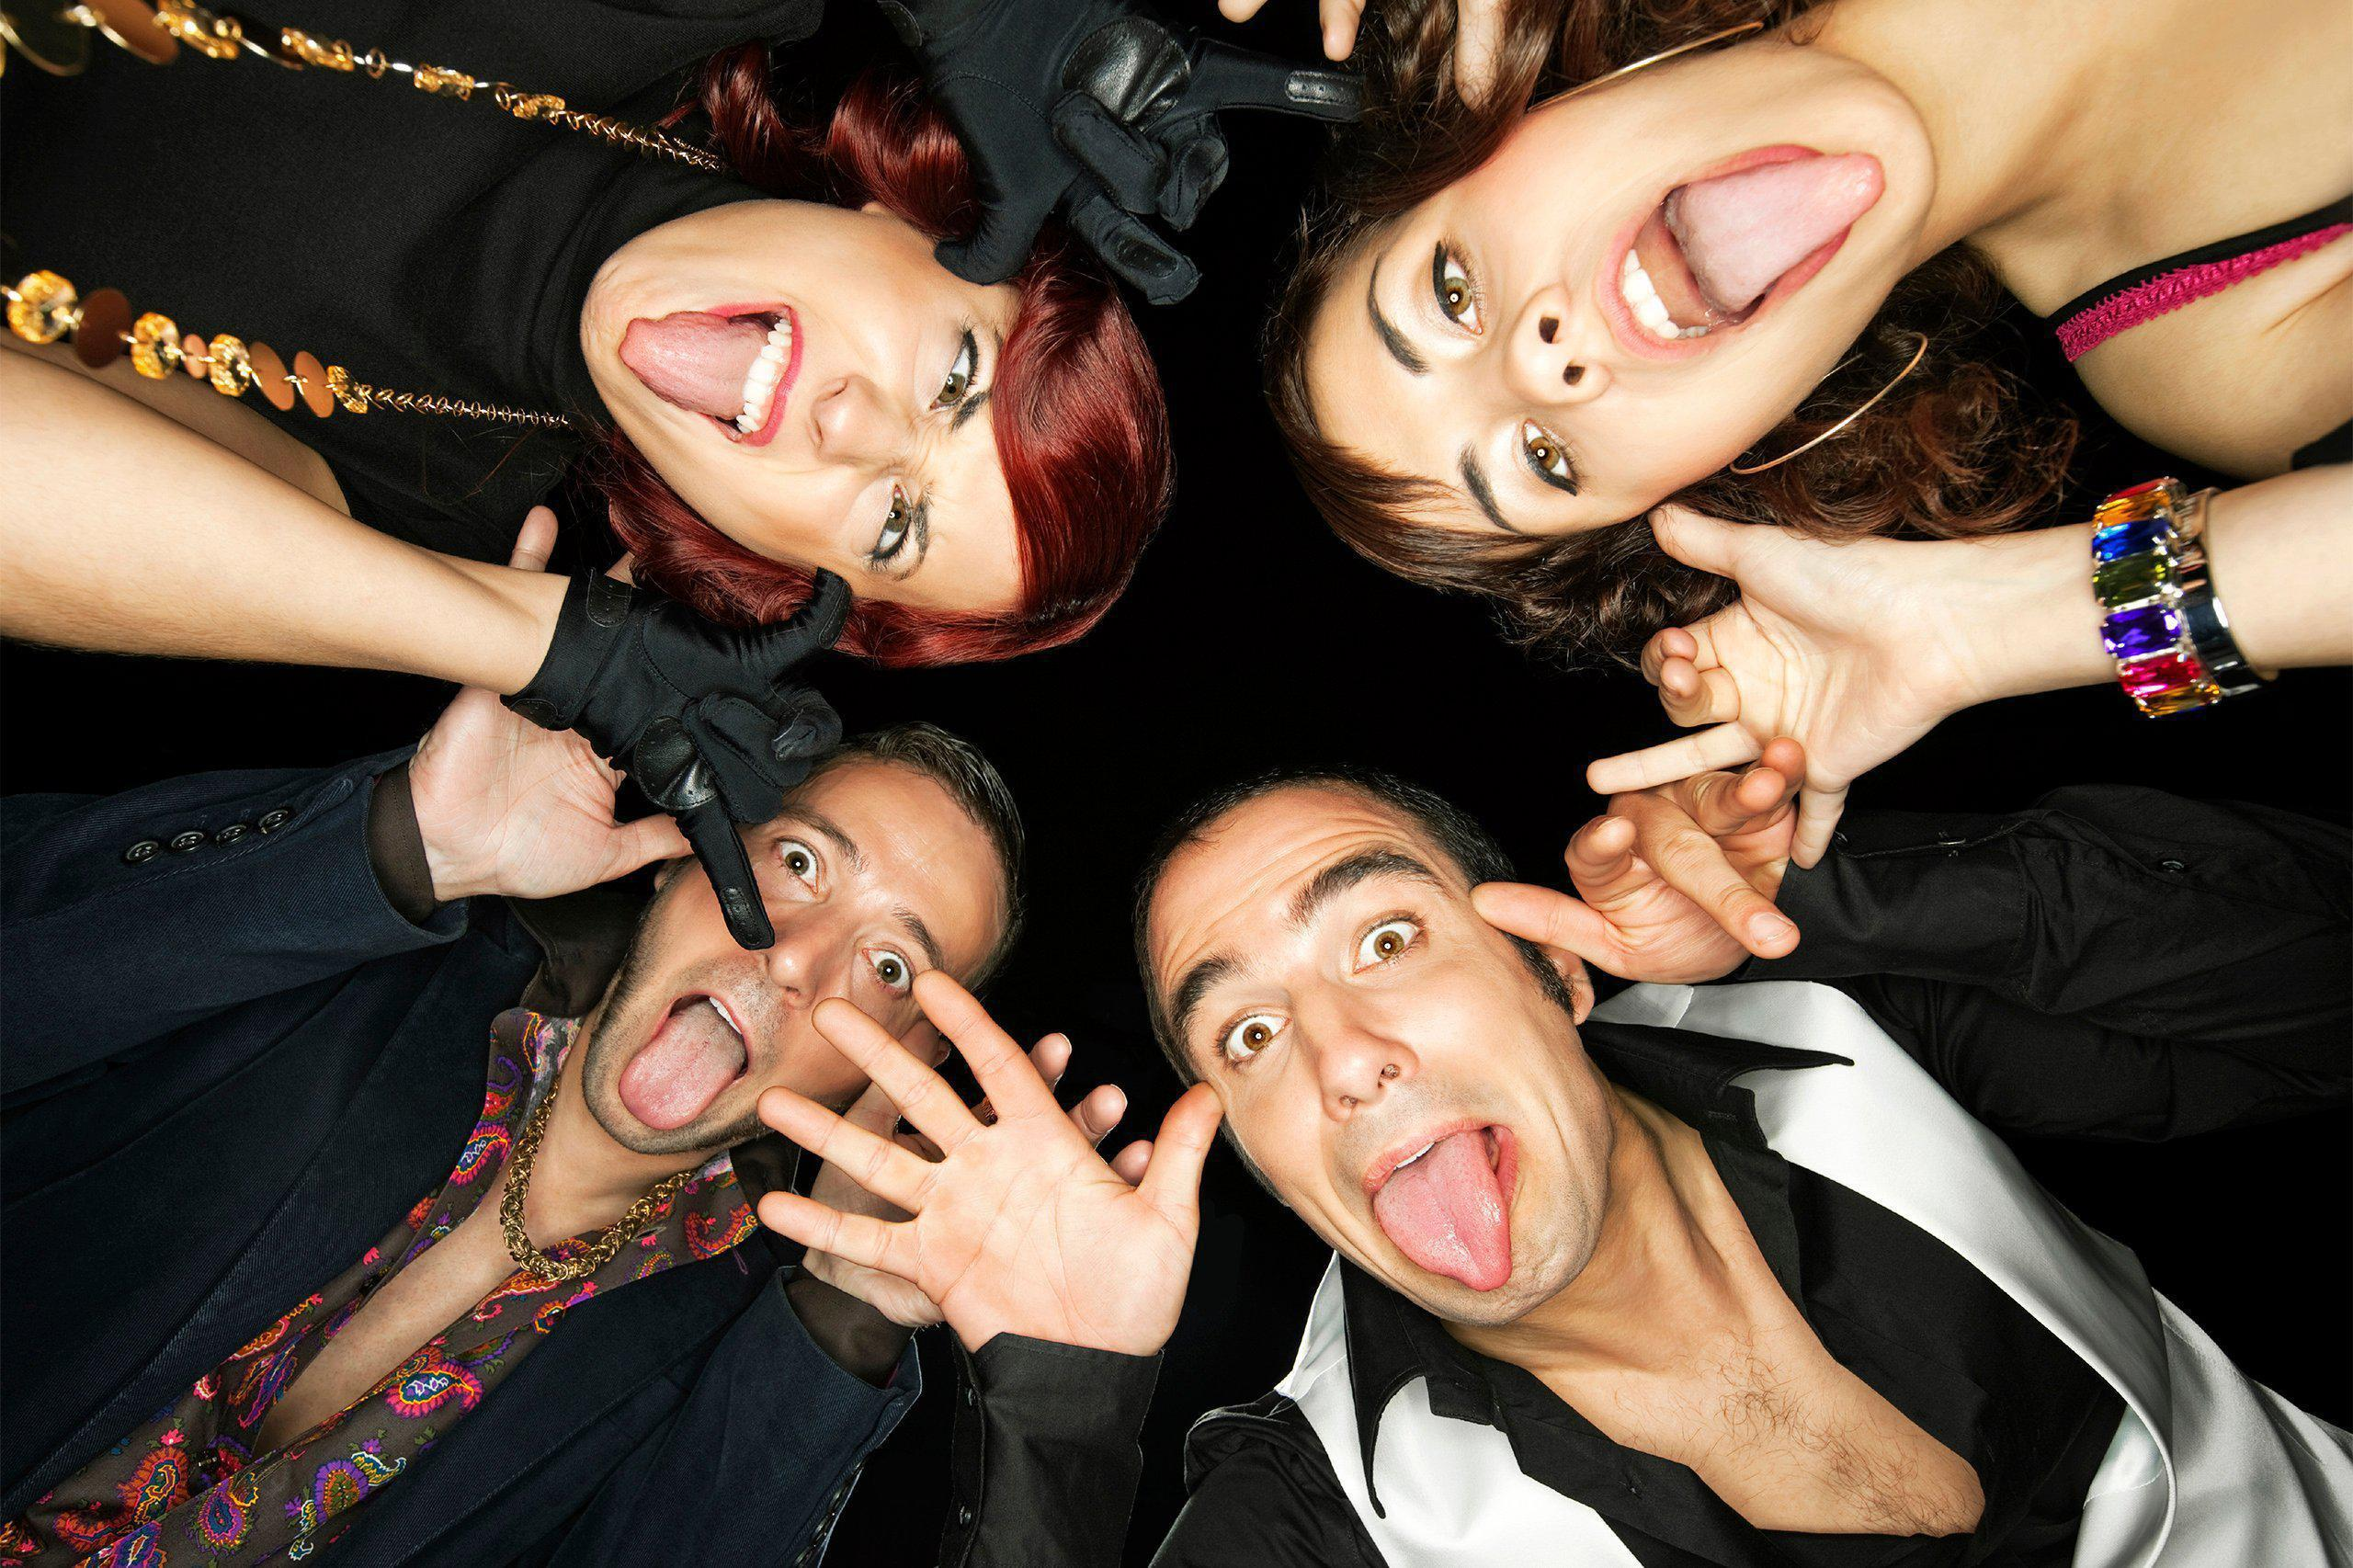Drunk: (1324, 77, 1912, 532), (1183, 791, 1550, 1312), (577, 240, 1058, 630), (623, 793, 973, 1150)
